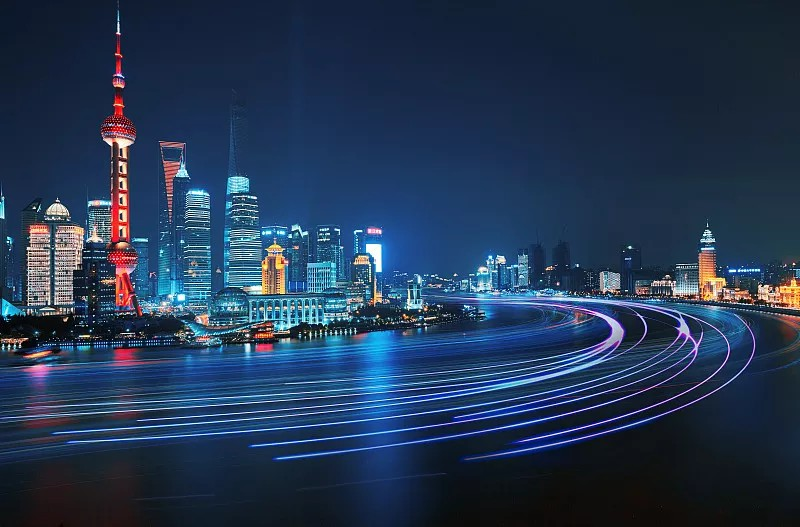Oriental: (100, 4, 144, 317)
